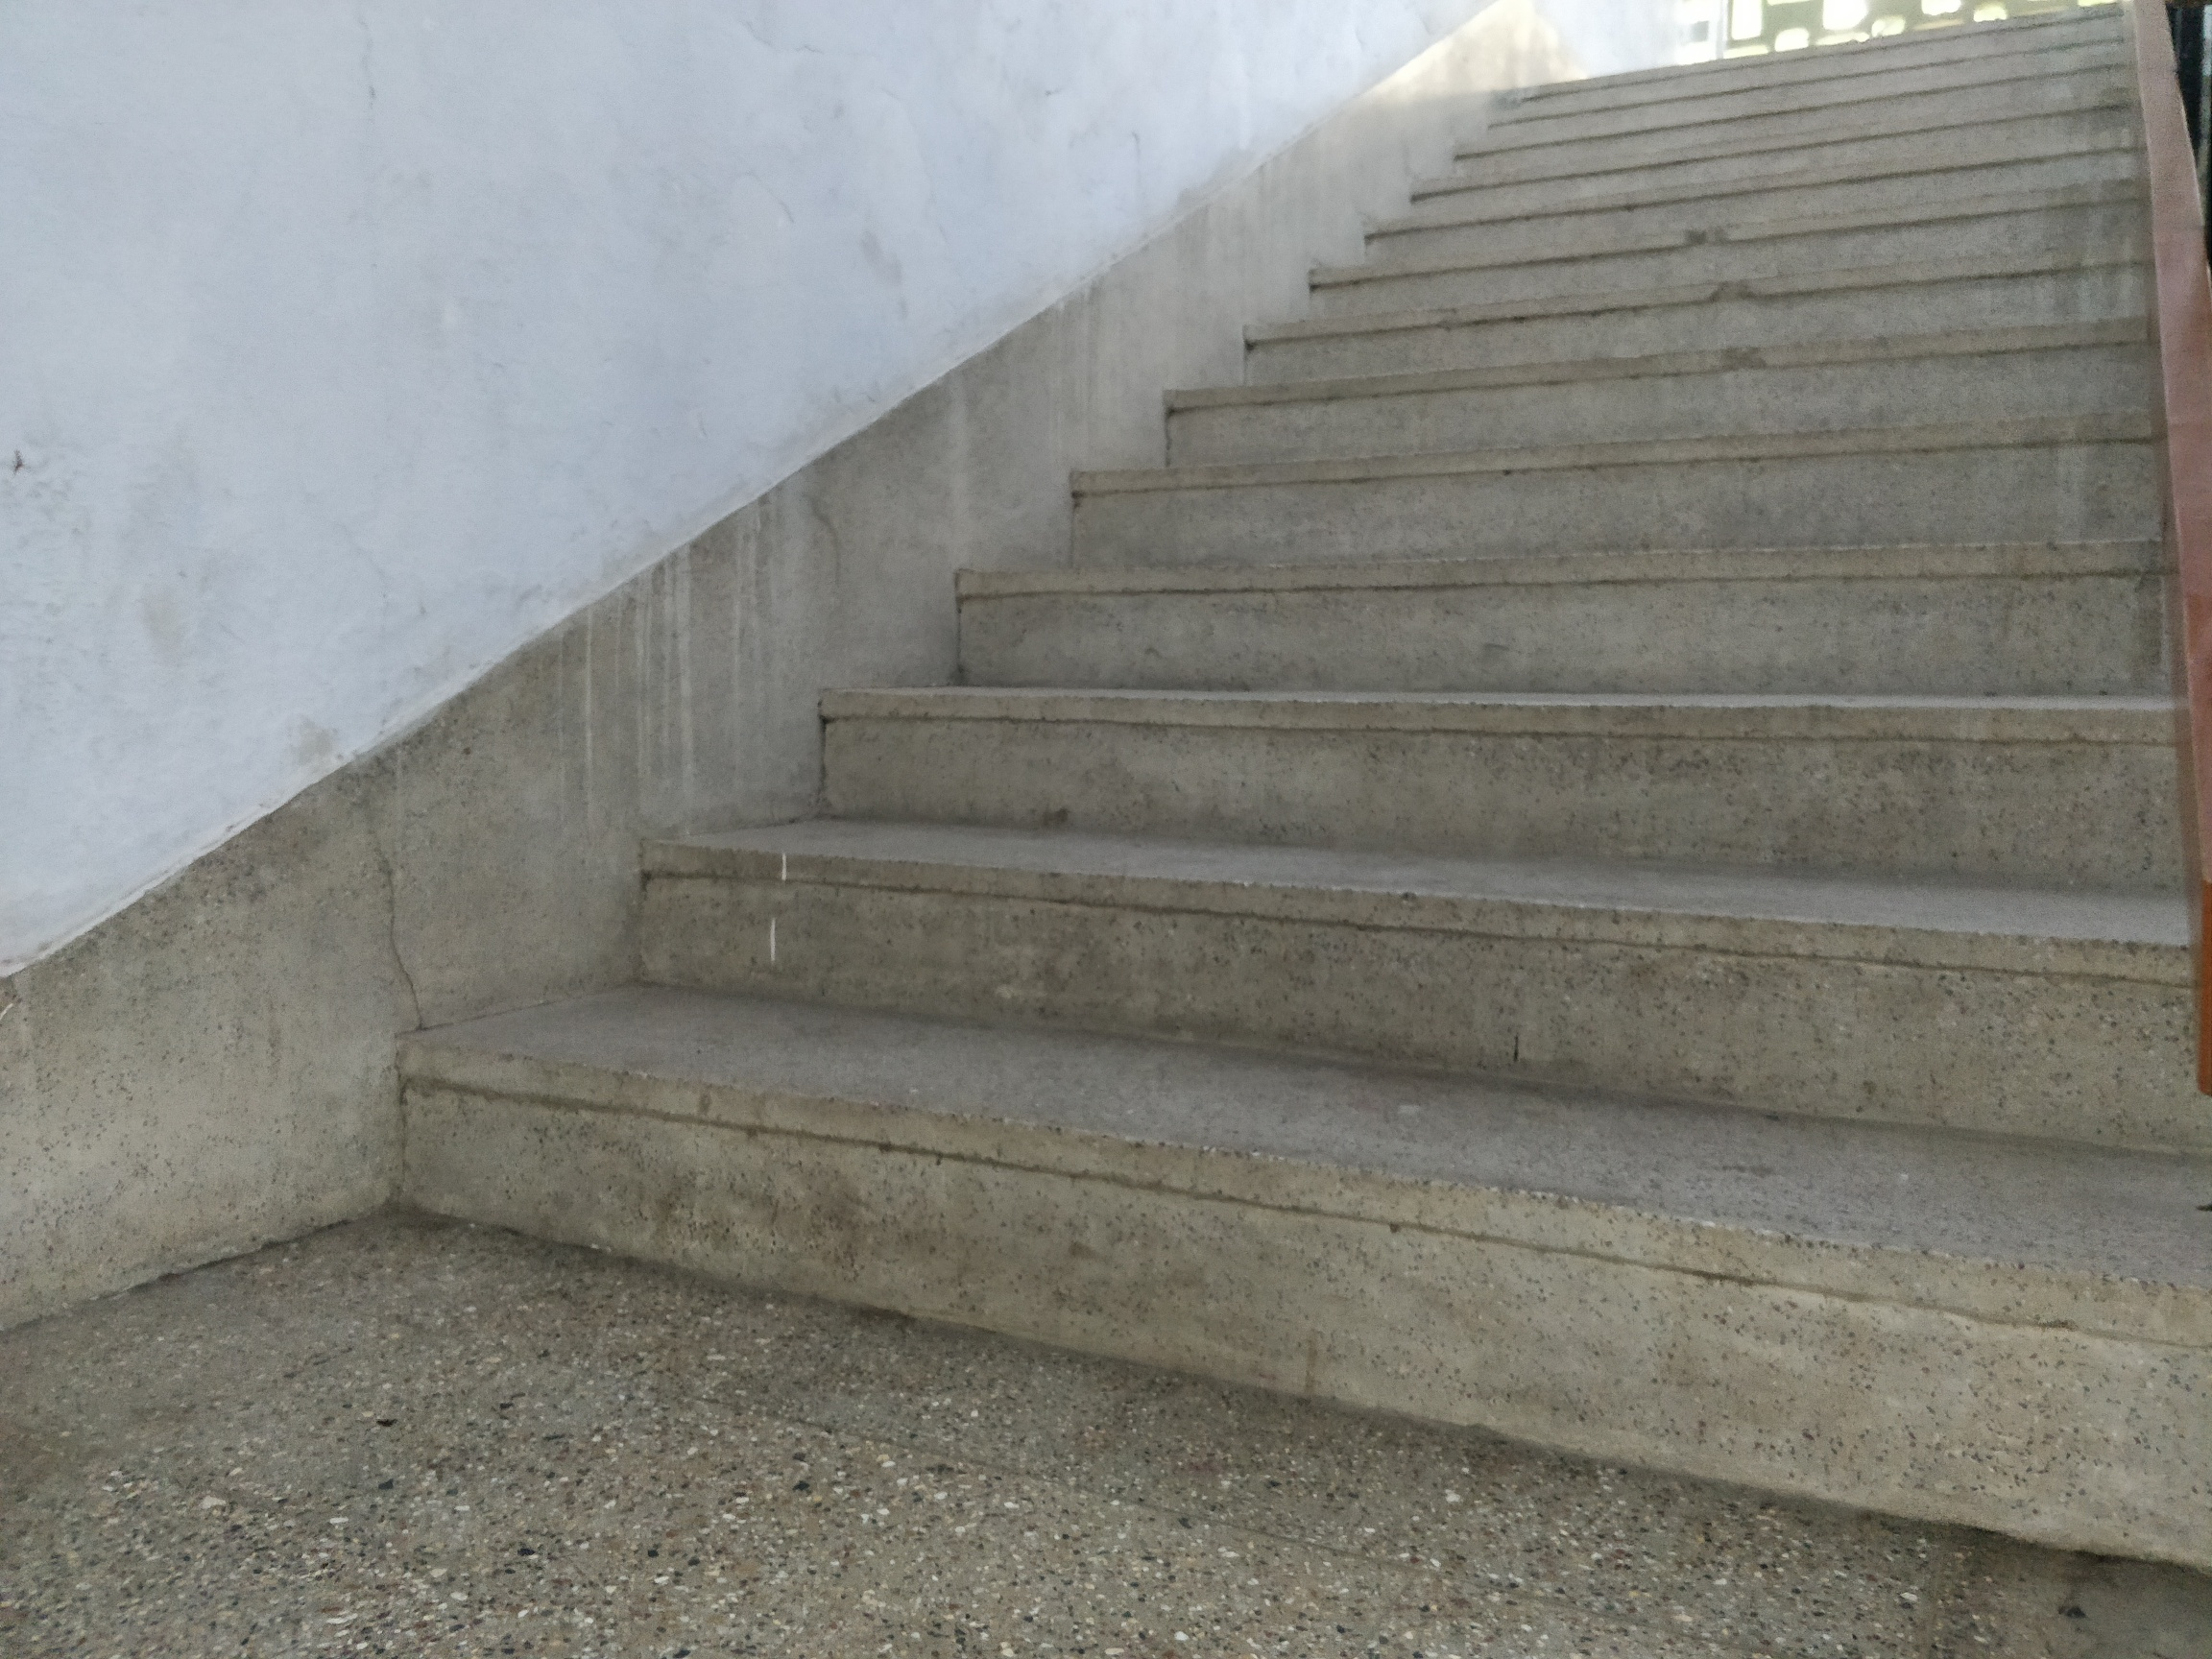stairs_up: (345, 7, 2142, 1401)
